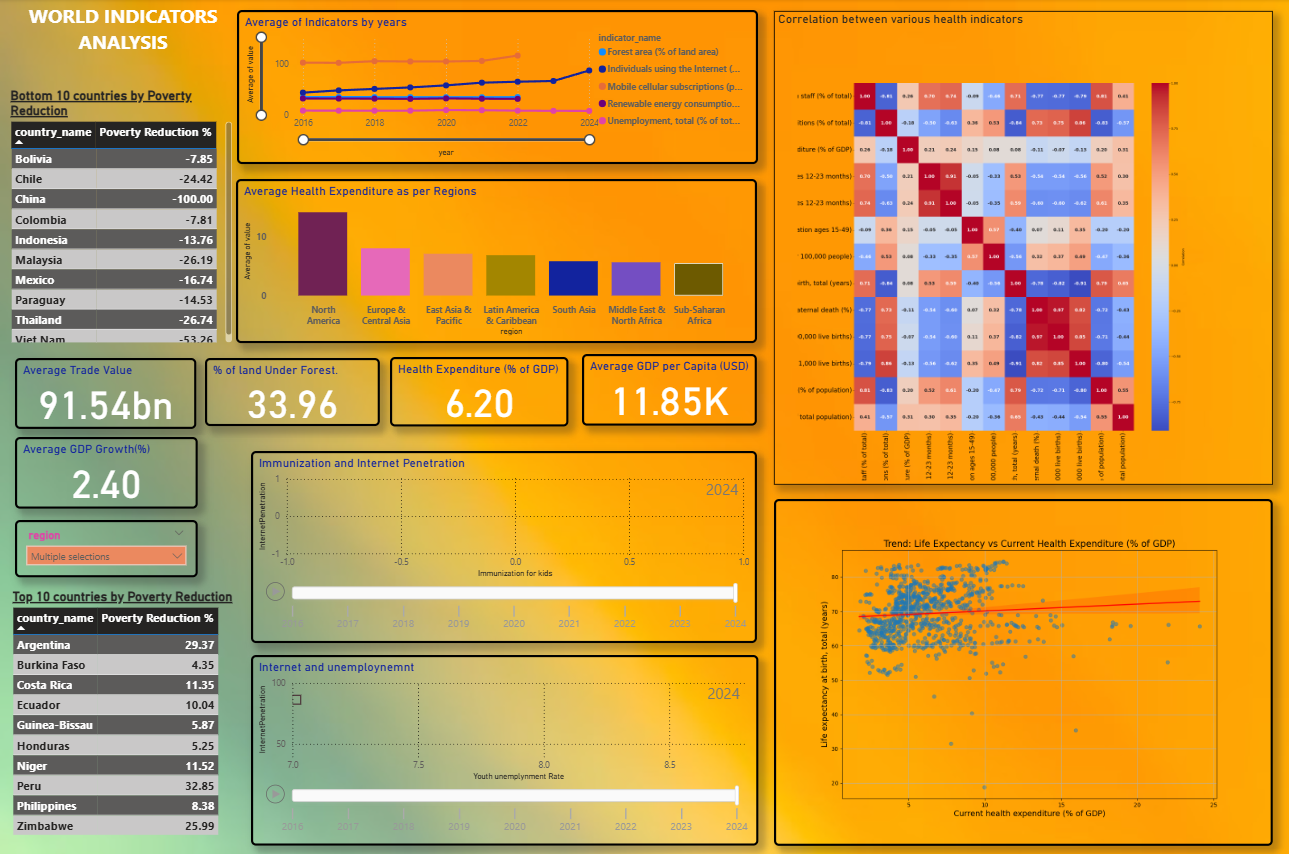

The page's visual inventory and layout, read from the dashboard file:
{"tool":"powerbi","page":{"name":"Page 1","canvas":[1800,1200],"ordinal":0},"visuals":[{"type":"card","title":"Average  GDP per Capita (USD)","fields":{"Values":["Avg(economic.value)"]},"box":[812.4,495.4,244.2,100.5],"z":0},{"type":"card","title":"Average Trade Value","fields":{"Values":["Measure Table.Average Trade Value"]},"box":[20.8,500.6,252.9,98.7],"z":1000},{"type":"card","title":"Health Expenditure (% of GDP)","fields":{"Values":["Avg(health.value)"]},"box":[543.9,498.8,249.4,97],"z":2000},{"type":"card","title":"Average  GDP Growth(%)","fields":{"Values":["Avg(economic.value)"]},"box":[20.8,611.4,254.6,100.5],"z":3000},{"type":"card","title":"% of land Under Forest.","fields":{"Values":["Avg(environment.value)"]},"box":[285.8,500.6,244.2,95.3],"z":4000},{"type":"slicer","fields":{"Values":["poverty.region"]},"box":[20.8,727.5,254.6,79.7],"z":5000},{"type":"lineChart","title":"Average of Indicators by years","fields":{"Category":["Line Chart.year"],"Y":["Avg(Line Chart.value)"],"Series":["Line Chart.indicator_name"]},"box":[330.8,15.6,727.5,214.8],"z":6000},{"type":"scatterChart","title":"Internet and unemploynemnt","fields":{"Y":["Scatter plot.InternetPenetration"],"Size":["Scatter plot.GDPperCapita"],"Category":["Scatter plot.year"],"Play":["Scatter plot.year"],"X":["Scatter plot.Youth unemplynment Rate"]},"box":[350,916,708,266],"z":7000},{"type":"clusteredColumnChart","title":"Average Health Expenditure as per Regions","fields":{"Category":["health.region"],"Y":["Avg(health.value)"]},"box":[329.1,251.2,727.5,228.6],"z":8000},{"type":"textbox","box":[12.1,0,318.7,124.7],"z":9000},{"type":"pythonVisual","fields":{"Values":["health.country_name","health.value","health.year","health.indicator_name"]},"box":[1080.4,698,696.1,484.3],"z":10000},{"type":"pythonVisual","title":"Correlation between various  health indicators","fields":{"Values":["health.country_name","health.year","health.indicator_name","health.value"]},"box":[1080.2,16.4,695.8,661.2],"z":11000},{"type":"tableEx","title":"Top 10 countries by Poverty Reduction","fields":{"Values":["poverty.country_name","Measure Table.Poverty Reduction %"]},"box":[12.1,822.8,318.7,360.3],"z":12000},{"type":"tableEx","title":"Bottom 10 countries by Poverty Reduction","fields":{"Values":["poverty.country_name","Measure Table.Poverty Reduction %"]},"box":[10.4,124.7,318.7,360.3],"z":13000},{"type":"scatterChart","title":"Immunization and Internet Penetration","fields":{"X":["Scatter plot.unemploynment_reduction"],"Y":["Scatter plot.InternetPenetration"],"Size":["Scatter plot.GDPperCapita"],"Play":["Scatter plot.year"],"Category":["Scatter plot.year"]},"box":[350,630,706,268],"z":14000}]}

Visuals, with their boxes in screenshot pixels (x1, y1, x2, y2), scaled from the page's 1800x1200 canvas onto the 1289x854 screenshot:
"Average  GDP per Capita (USD)" card: detection(582, 353, 757, 424)
"Average Trade Value" card: detection(15, 356, 196, 427)
"Health Expenditure (% of GDP)" card: detection(389, 355, 568, 424)
"Average  GDP Growth(%)" card: detection(15, 435, 197, 507)
"% of land Under Forest." card: detection(205, 356, 380, 424)
slicer - poverty.region: detection(15, 518, 197, 574)
"Average of Indicators by years" lineChart: detection(237, 11, 758, 164)
"Internet and unemploynemnt" scatterChart: detection(251, 652, 758, 841)
"Average Health Expenditure as per Regions" clusteredColumnChart: detection(236, 179, 757, 341)
textbox: detection(9, 0, 237, 89)
pythonVisual - health.country_name x health.value: detection(774, 497, 1272, 841)
"Correlation between various  health indicators" pythonVisual: detection(774, 12, 1272, 482)
"Top 10 countries by Poverty Reduction" tableEx: detection(9, 586, 237, 842)
"Bottom 10 countries by Poverty Reduction" tableEx: detection(7, 89, 236, 345)
"Immunization and Internet Penetration" scatterChart: detection(251, 448, 756, 639)
